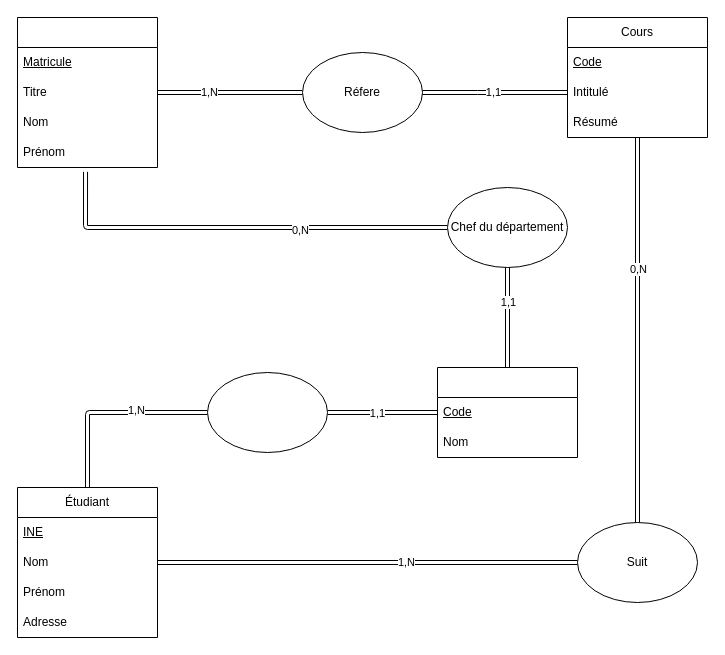
Image size: 725x655. Some labels were removed from this diagram. Here are the shapes that lost their labels. From the top down, the box of each, then its label:
(16, 16, 158, 168): Professeur
(206, 372, 328, 452): Choisi
(436, 366, 578, 458): Département
